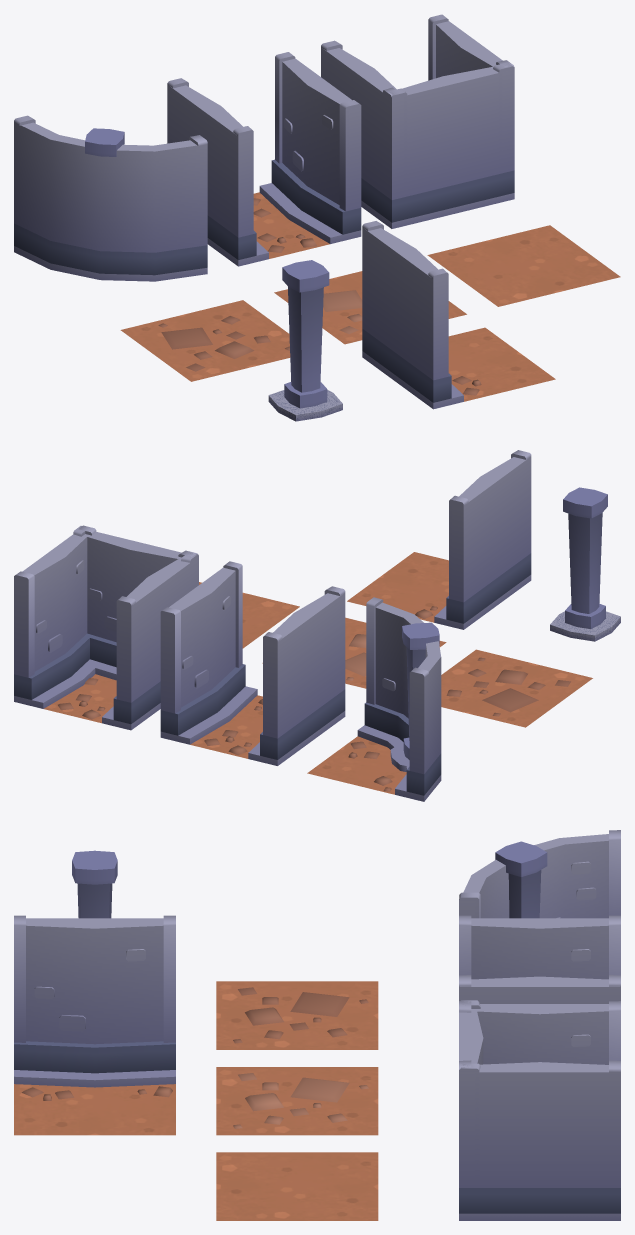
The model's file is kenney_modular_dungeon_4bit.glb.
3 views of the same model, one above another, from view 1: azimuth 30°, elevation 25°; view 2: azimuth 150°, elevation 25°; view 3: azimuth 270°, elevation 25° (orthographic). The views are drawn at different scales.
Parts seen in each view (by area): view 1: tile4bit_3, tile4bit_1, tile4bit_5, tile4bit_7, tile4bit_15-v2-w7, tile4bit_15-w2, tile4bit_0, tile4bit_15-v1-w2; view 2: tile4bit_1, tile4bit_5, tile4bit_7, tile4bit_3, tile4bit_15-w2, tile4bit_0, tile4bit_15-v2-w7, tile4bit_15-v1-w2; view 3: tile4bit_7, tile4bit_1, tile4bit_5, tile4bit_3, tile4bit_15-w2, tile4bit_15-v2-w7, tile4bit_15-v1-w2, tile4bit_0.
Part boxes in pixels (left/top/right/bottom): tile4bit_3: left=14, top=115, right=207, bottom=281; tile4bit_1: left=321, top=14, right=514, bottom=228; tile4bit_5: left=167, top=52, right=361, bottom=266; tile4bit_7: left=362, top=221, right=555, bottom=409; tile4bit_15-v2-w7: left=427, top=225, right=620, bottom=306; tile4bit_15-w2: left=120, top=300, right=290, bottom=381; tile4bit_0: left=268, top=260, right=342, bottom=421; tile4bit_15-v1-w2: left=274, top=271, right=466, bottom=344; tile4bit_1: left=14, top=525, right=198, bottom=730; tile4bit_5: left=160, top=561, right=345, bottom=765; tile4bit_7: left=347, top=450, right=531, bottom=629; tile4bit_3: left=307, top=597, right=441, bottom=801; tile4bit_15-w2: left=441, top=649, right=592, bottom=727; tile4bit_0: left=550, top=487, right=620, bottom=641; tile4bit_15-v2-w7: left=199, top=582, right=299, bottom=648; tile4bit_15-v1-w2: left=262, top=617, right=446, bottom=688; tile4bit_7: left=14, top=915, right=175, bottom=1135; tile4bit_1: left=459, top=1000, right=620, bottom=1220; tile4bit_5: left=459, top=915, right=620, bottom=1003; tile4bit_3: left=459, top=830, right=620, bottom=918; tile4bit_15-w2: left=216, top=981, right=378, bottom=1049; tile4bit_15-v2-w7: left=216, top=1152, right=378, bottom=1220; tile4bit_15-v1-w2: left=216, top=1067, right=378, bottom=1135; tile4bit_0: left=72, top=850, right=117, bottom=918.
Bounding box in the file's own units: 14 × 4.23 × 15.
8 materials, 8 textured.
